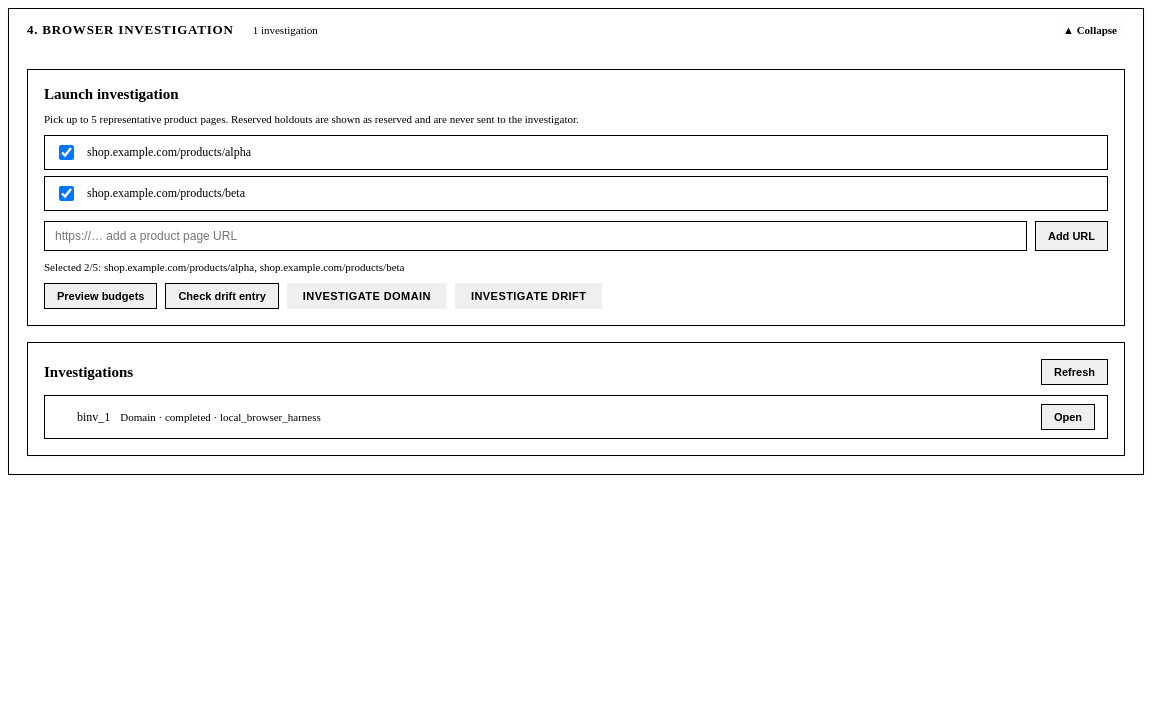
Scenario: holdout coverage, evidence, and separate actions › shows holdout coverage as reserved with evidence-rich results
The width and height of the screenshot is (1152, 720).
Click the button "Open". click: (1068, 417)
box: [1041,404,1095,430]
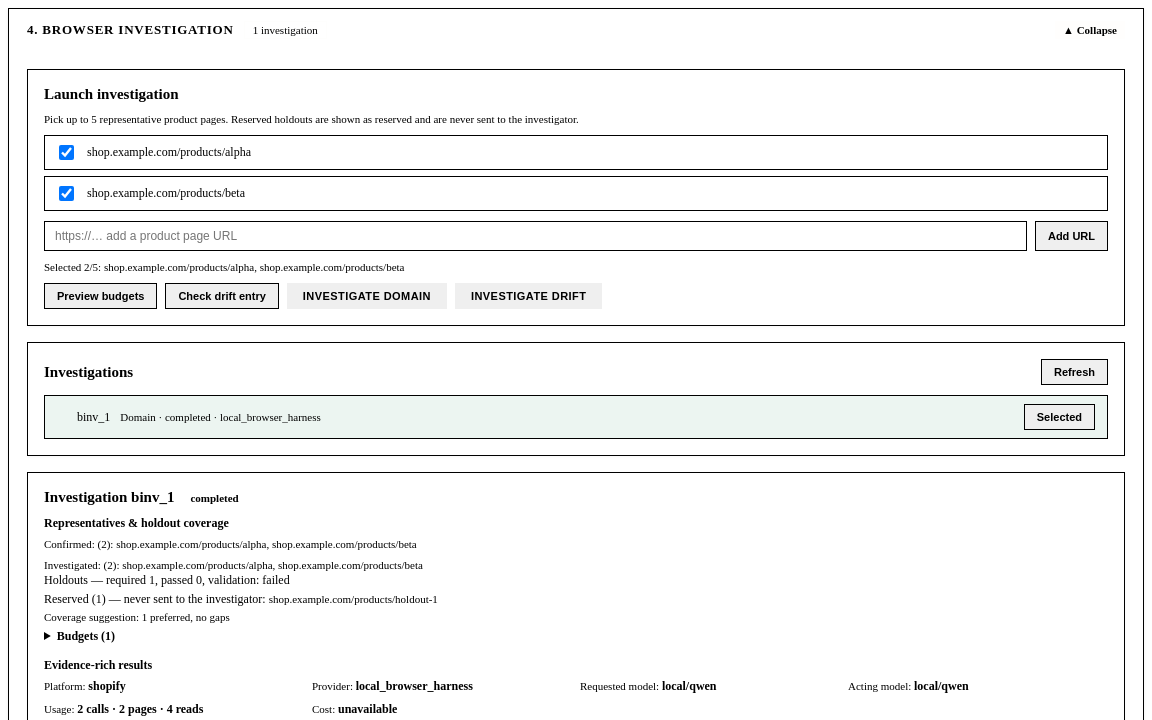
Now the text "Reserved (1)" is shown, box [44,592,438,606]
Now the text "shopify" is shown, box [88,679,126,693]
Now the text "unavailable" is shown, box [338,702,397,716]
